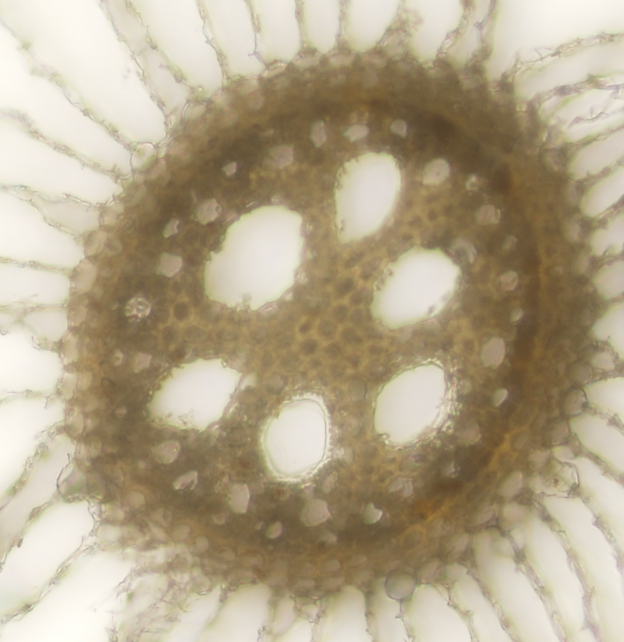lm: (204, 204, 305, 309), (368, 243, 462, 328), (145, 357, 243, 433), (257, 391, 332, 486), (373, 360, 449, 447), (331, 152, 402, 241)
